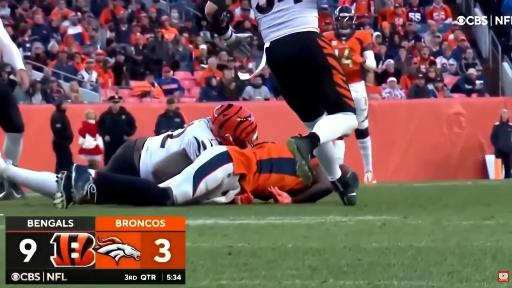Helmet: (210, 104, 257, 148), (333, 6, 355, 33)
Jersey: (140, 118, 218, 180), (228, 143, 305, 192), (250, 0, 319, 44), (324, 31, 372, 83)
Player: (251, 0, 357, 205), (55, 144, 304, 207), (102, 104, 257, 182), (324, 6, 376, 183), (233, 163, 332, 204), (0, 83, 24, 165)
